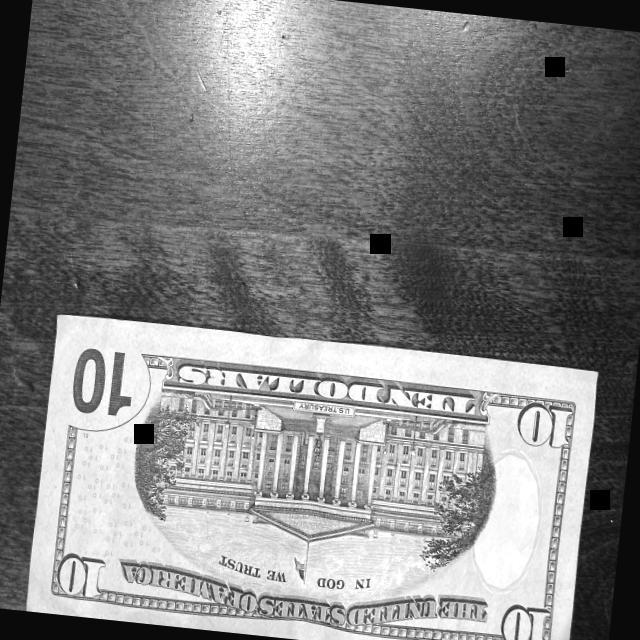ten: (23, 311, 600, 640)
